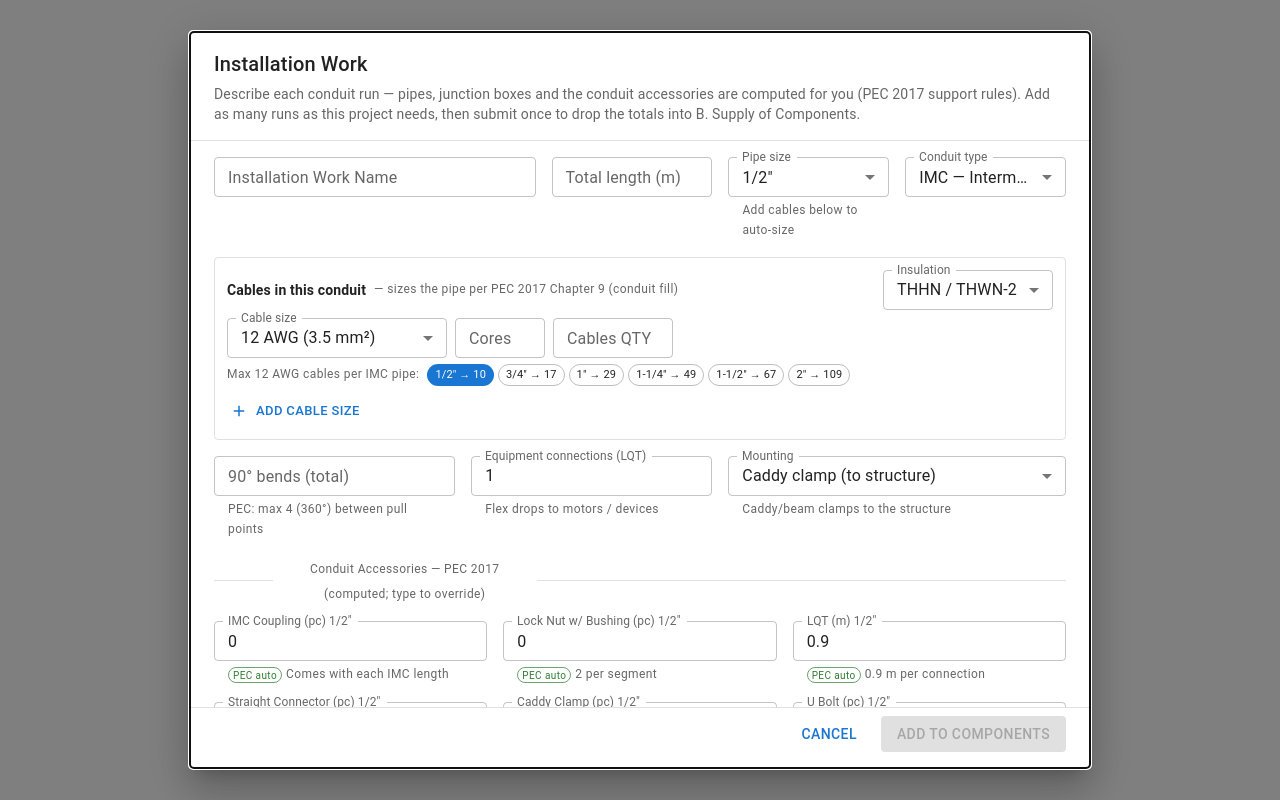
Test: switching to unistrut mounting swaps caddy clamps for U-bolts, channel and angle bar
The width and height of the screenshot is (1280, 800).
Type "30" into the field labelled "Total length (m)" at {"x": 632, "y": 177}, box top-left (552, 157), bottom-right (712, 197)
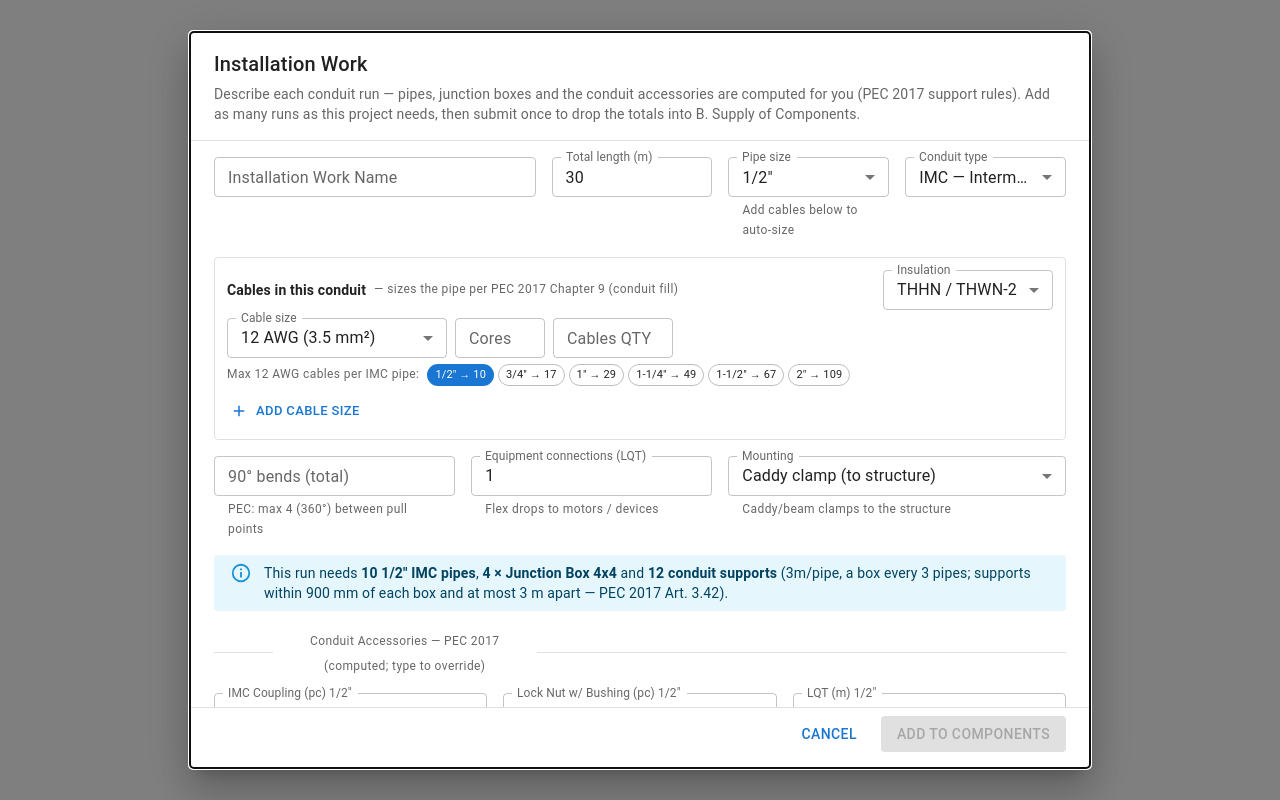
Press the mouse on the dropdown named "mounting" at {"x": 839, "y": 476}, box top-left (742, 466), bottom-right (936, 485)
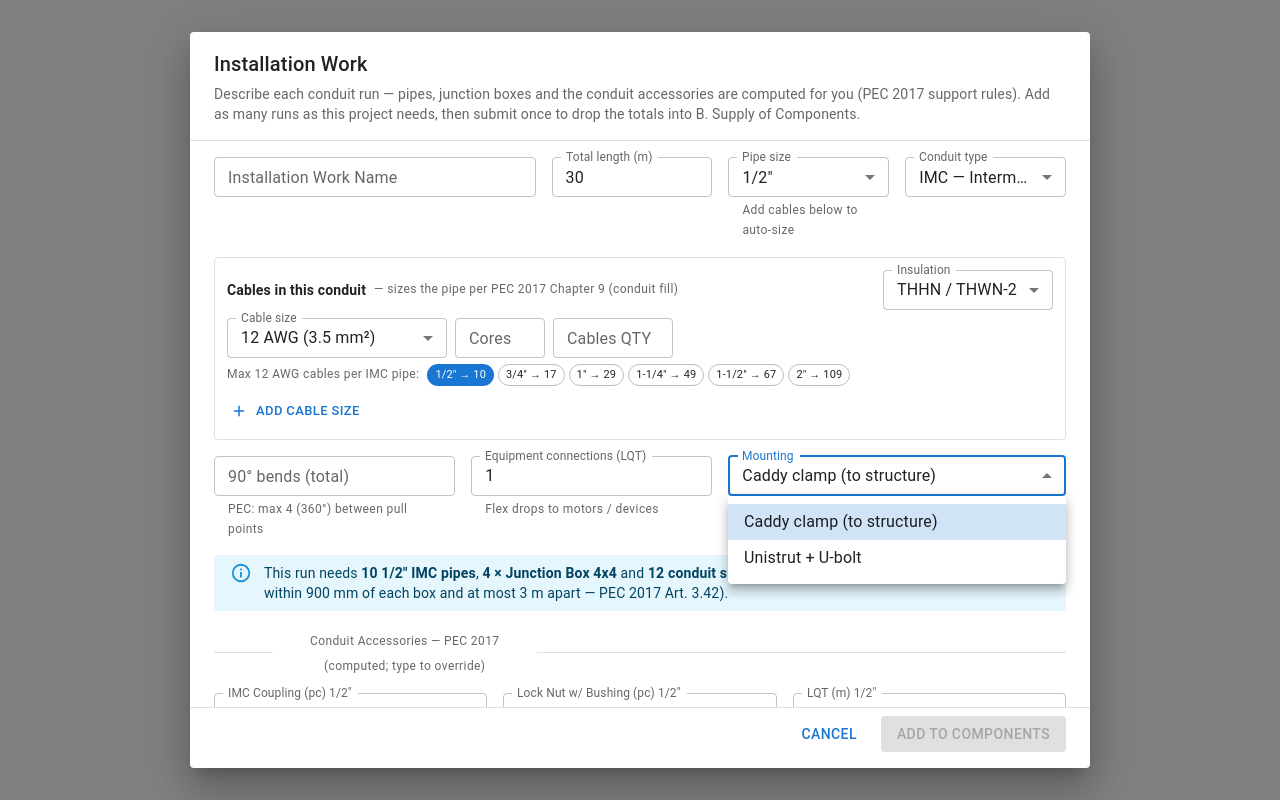
Click the option "Unistrut + U-bolt" at {"x": 803, "y": 558}, box top-left (744, 548), bottom-right (862, 567)
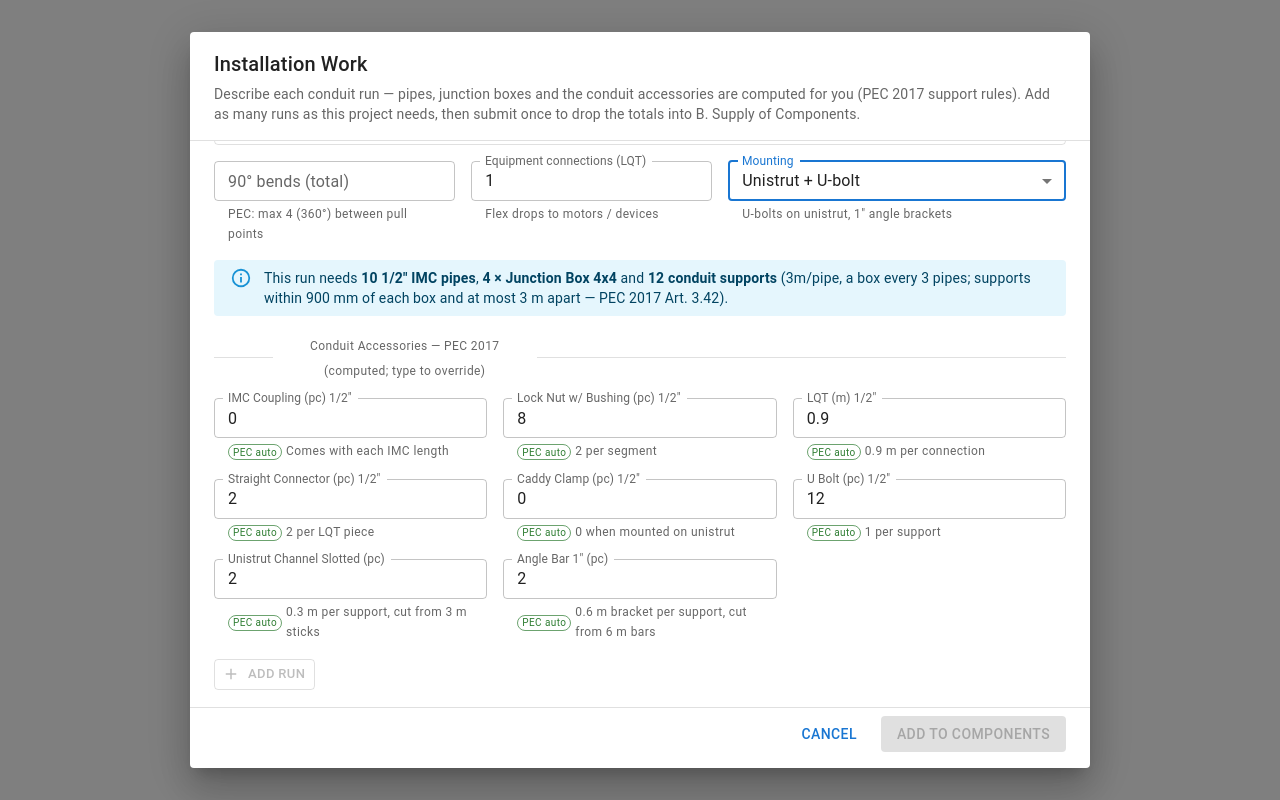
Check: the field labelled "Caddy Clamp (pc) 1/2\"" holds "0", box top-left (503, 479), bottom-right (777, 519)
Check: the field labelled "U Bolt (pc) 1/2\"" holds "12", box top-left (793, 479), bottom-right (1066, 519)
